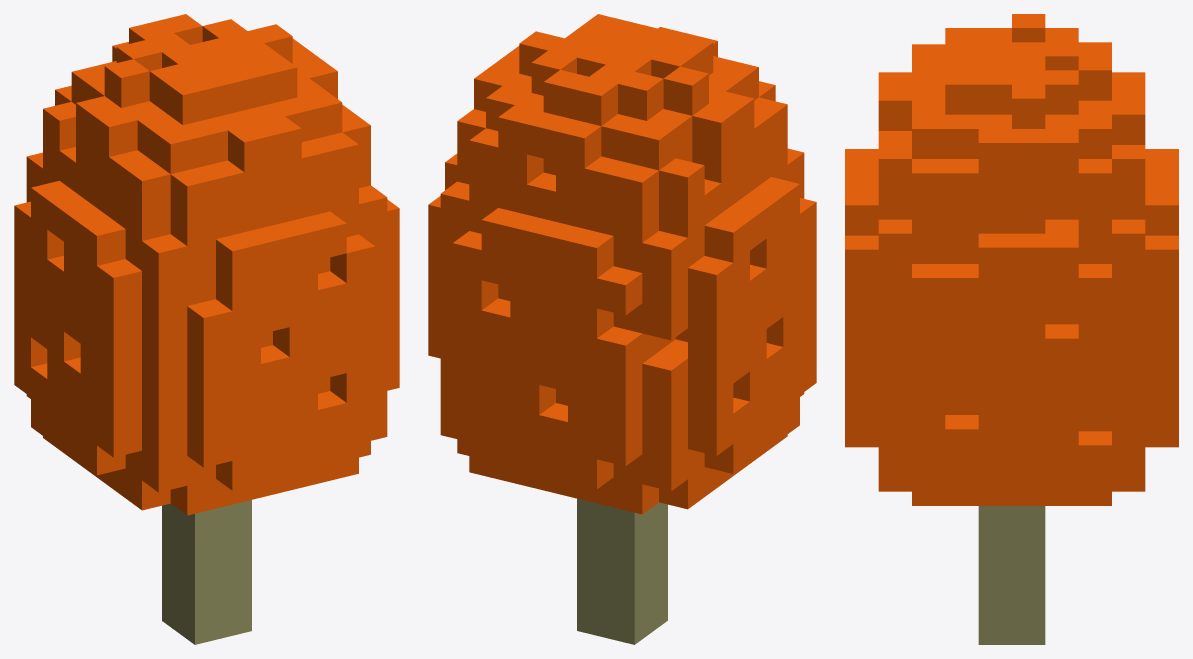
File: obj_tree2a.obj
3 renders of one model, left to right at view 1: azimuth 30°, elevation 25°; view 2: azimuth 150°, elevation 25°; view 3: azimuth 270°, elevation 25°, orthographic.
Bounding box in the file's own units: 1 × 1.9 × 1.
1 material, 1 textured.
